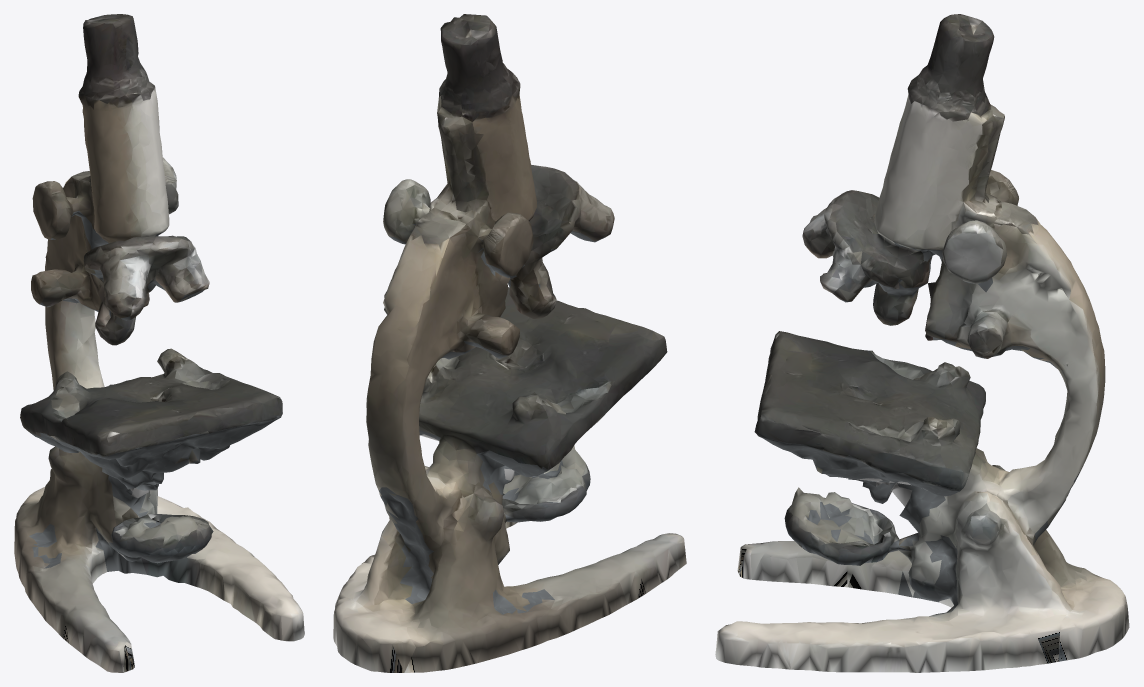
The model's file is final_using_meshlab.fbx.
3 renders of one model, left to right at view 1: azimuth 30°, elevation 25°; view 2: azimuth 150°, elevation 25°; view 3: azimuth 270°, elevation 25°, orthographic. The views are drawn at different scales.
Visible parts, largest first — view 1: mesh_medpoly_MeshLab:Mesh; view 2: mesh_medpoly_MeshLab:Mesh; view 3: mesh_medpoly_MeshLab:Mesh.
Boxes of the visible parts, x1,y1,x2,y2 form: mesh_medpoly_MeshLab:Mesh: (14,14,304,672); mesh_medpoly_MeshLab:Mesh: (333,14,686,672); mesh_medpoly_MeshLab:Mesh: (715,14,1129,672).
Size of the model in its own units: 0.1235 by 0.318 by 0.1996.
29 materials, 28 textured.
